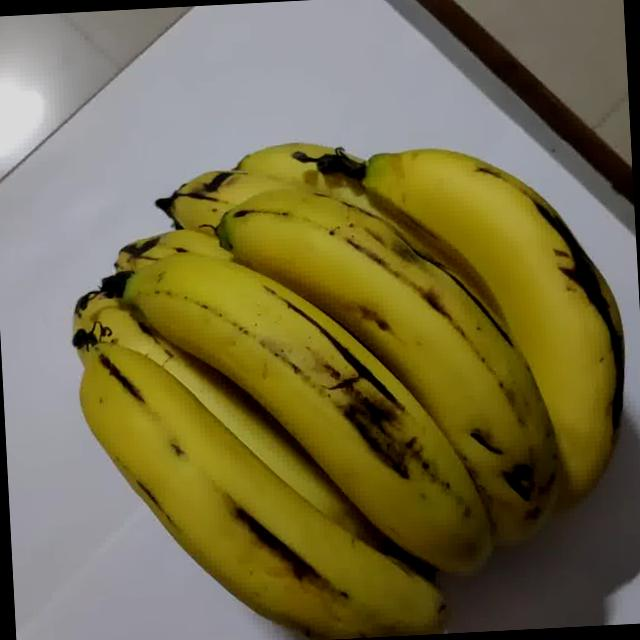banana_pacche: (61, 16, 640, 640)
